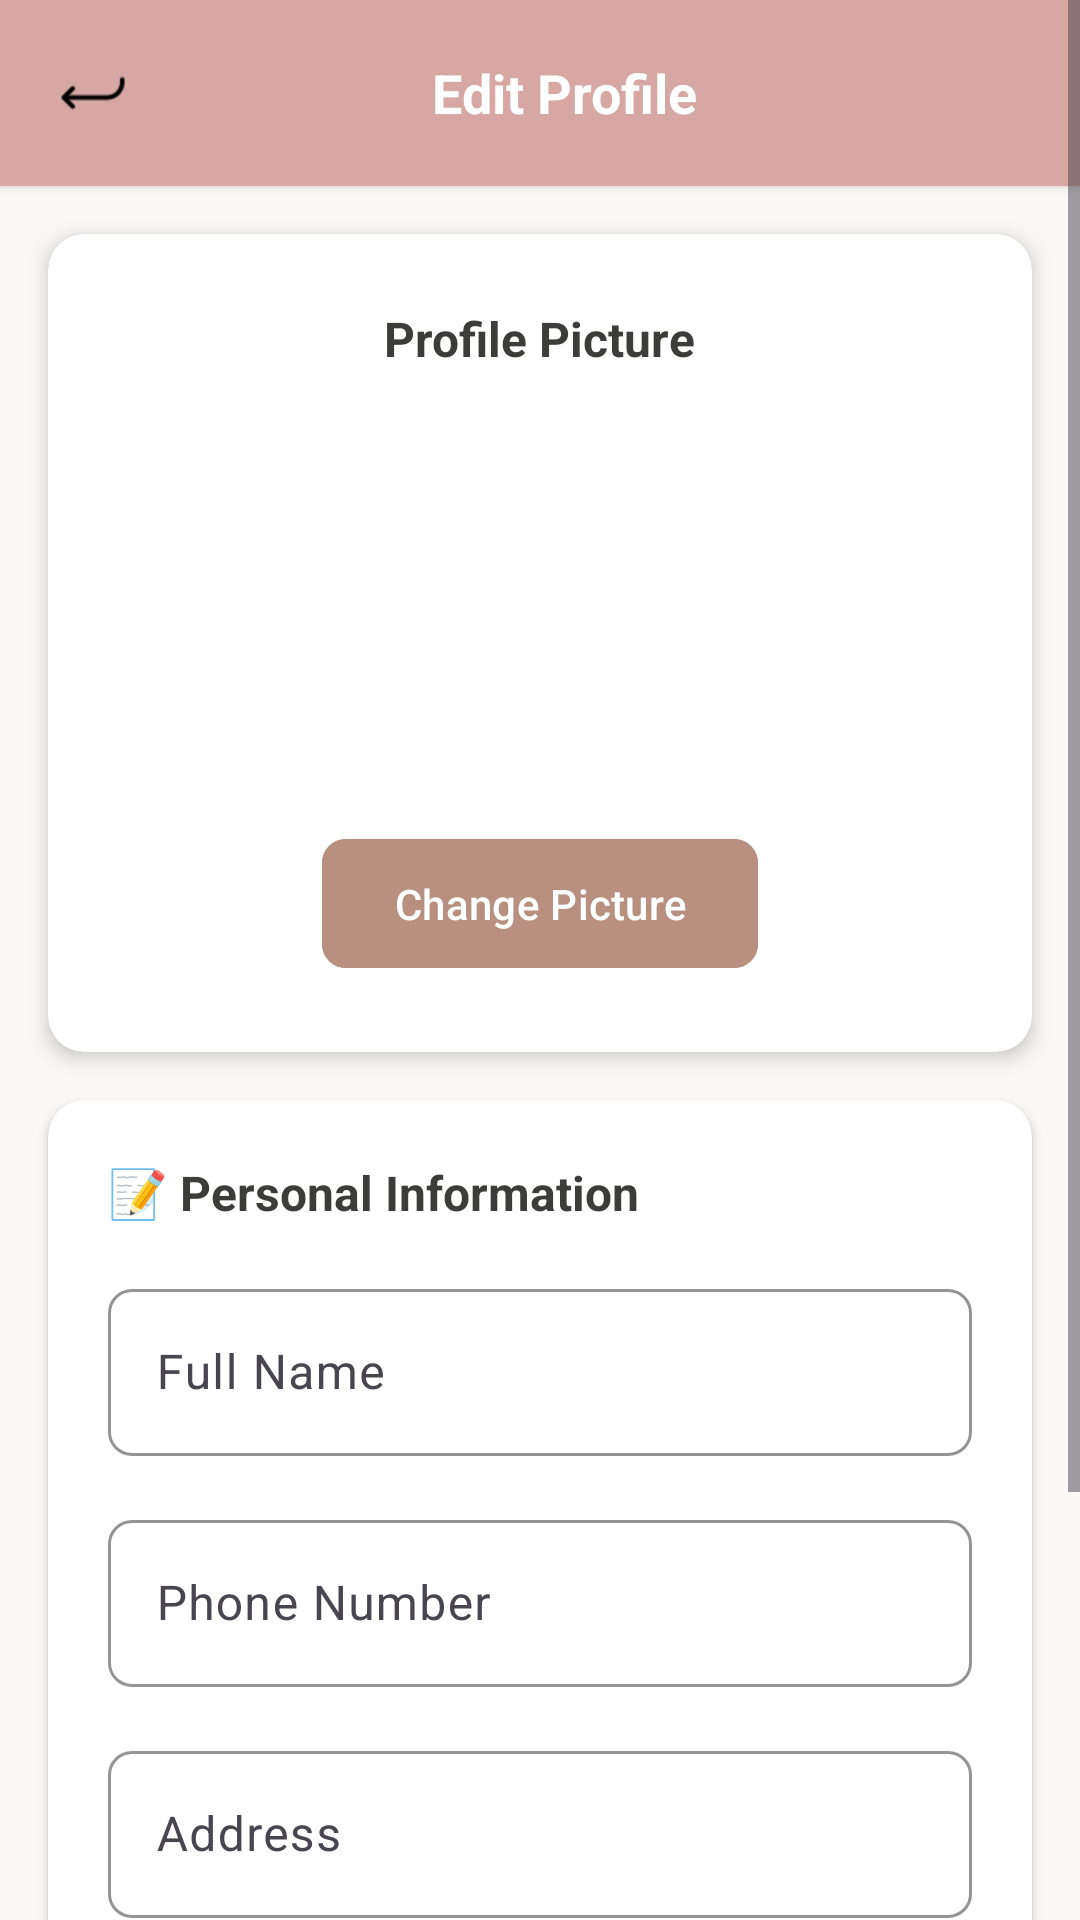

Where icons sit on this 1080x1920 app screen, as region(x1, y1, x2, y2):
Back: region(61, 76, 125, 110)
